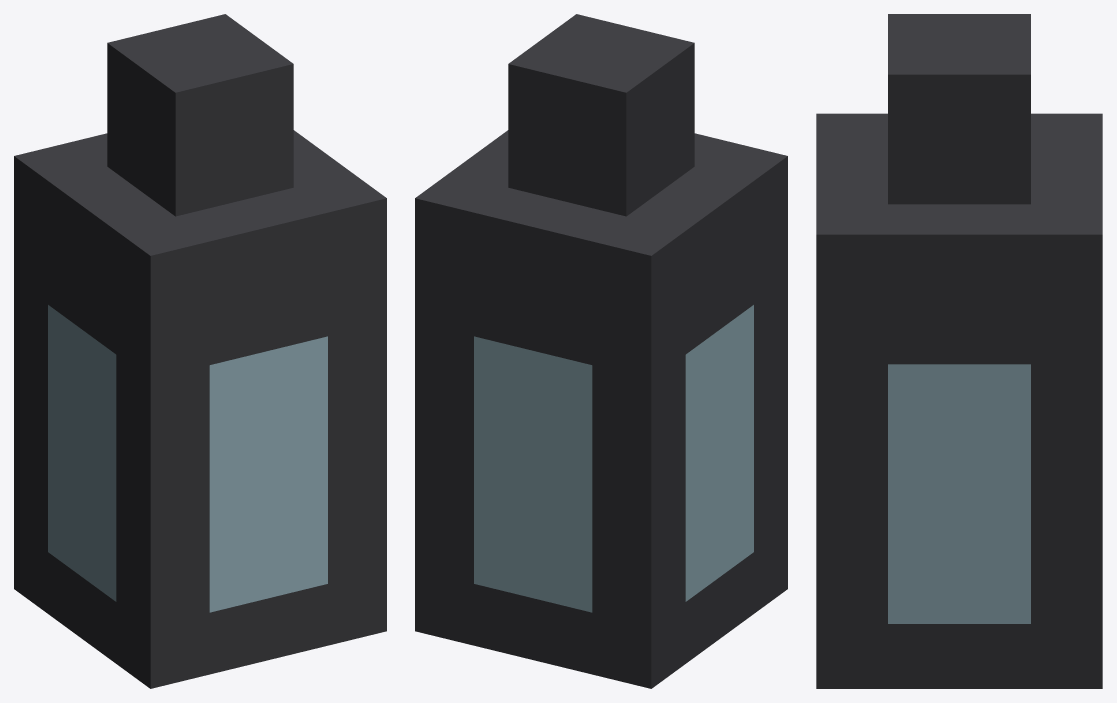
Rendered from upg_skiff_lantern_lod1.glb.
The picture shows the model from 3 angles, left to right: view 1: azimuth 30°, elevation 25°; view 2: azimuth 150°, elevation 25°; view 3: azimuth 270°, elevation 25°; orthographic projection. The views are drawn at different scales.
Visible parts, largest first — view 1: upg_skiff_lantern; view 2: upg_skiff_lantern; view 3: upg_skiff_lantern.
Boxes of the visible parts, <box> form: upg_skiff_lantern: <box>14,14,386,688</box>; upg_skiff_lantern: <box>415,14,787,688</box>; upg_skiff_lantern: <box>816,14,1102,688</box>.
Bounding box in the file's own units: 0.24 × 0.54 × 0.24.
